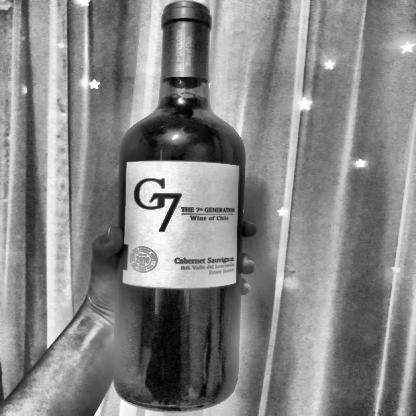G7: (123, 158, 239, 291)
